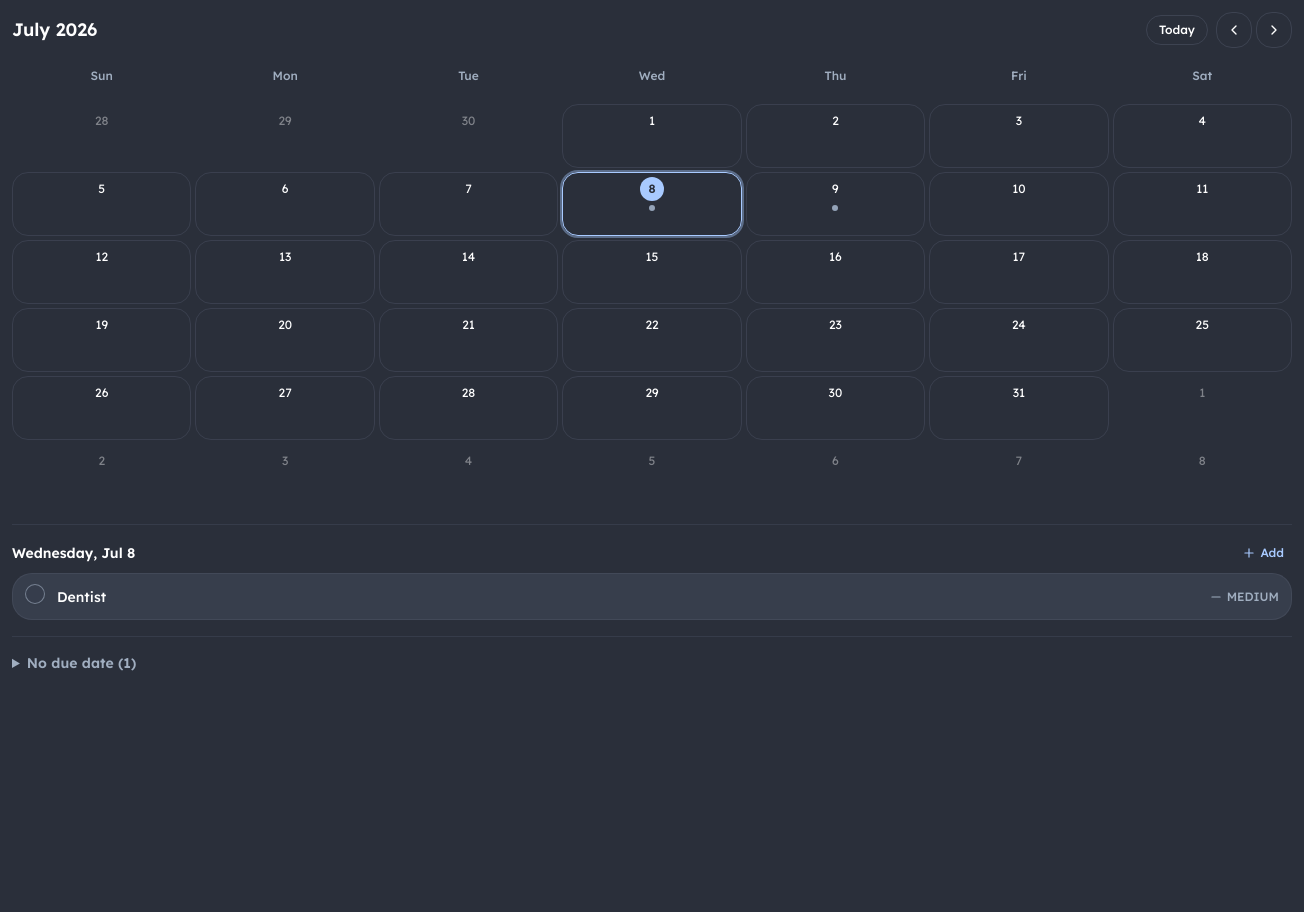
Test: TaskCalendarView › selecting another day shows that day’s tasks
The image size is (1304, 912).
Note: The 9th isn't selected initially, so its task isn't in the agenda yet.
Click the button named "July 9": (835, 204) [746,172,925,236]
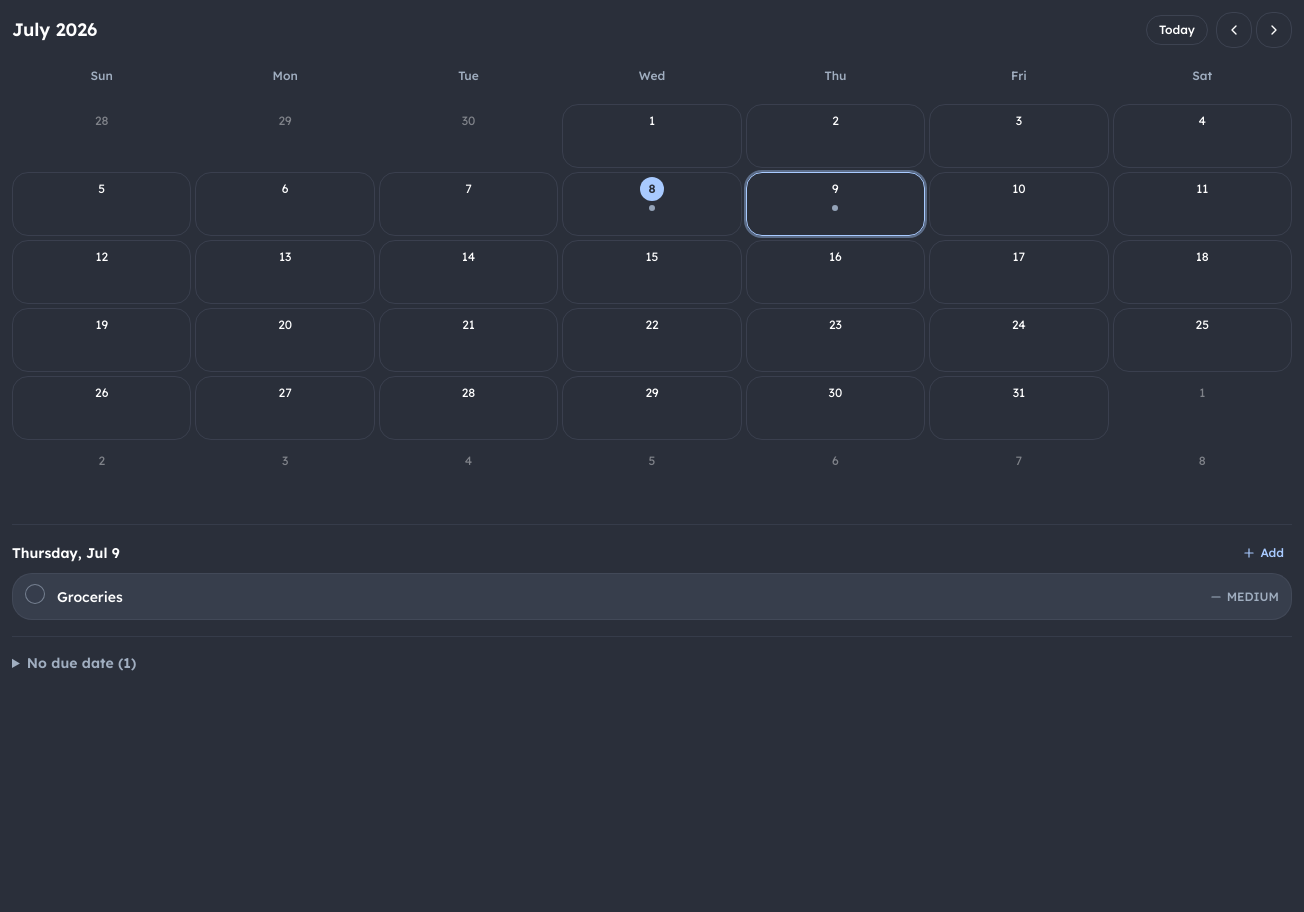
Expected: the button "Groceries" is shown, [57,586,1197,606]
